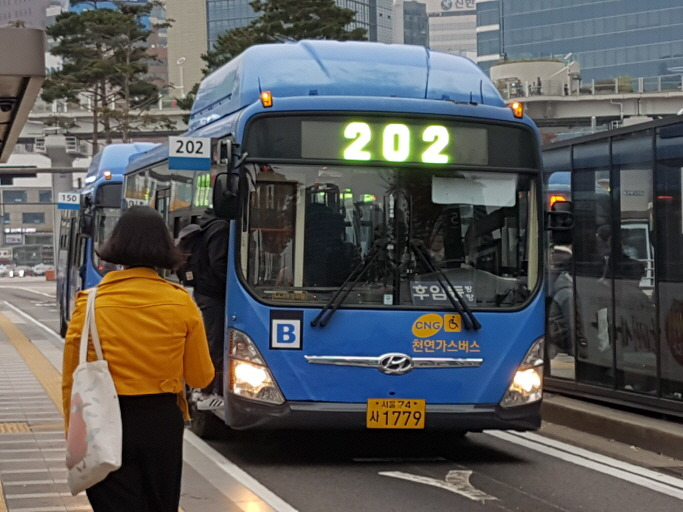bnum: (331, 119, 460, 167)
